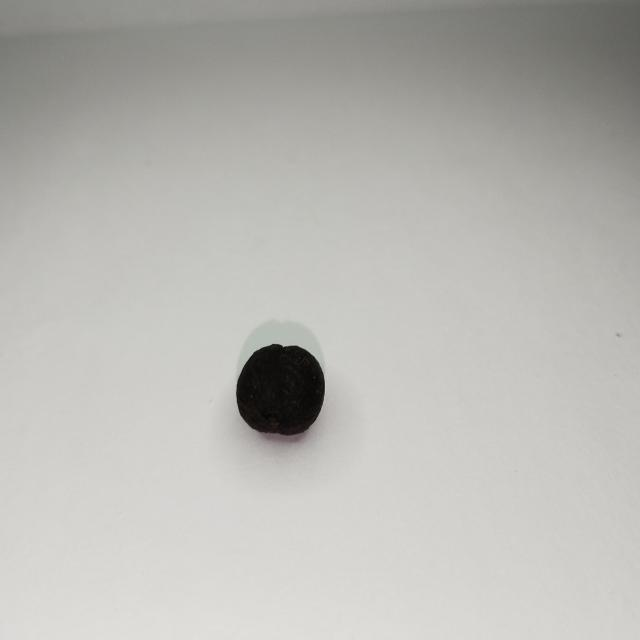Danado: (236, 343, 324, 436)
